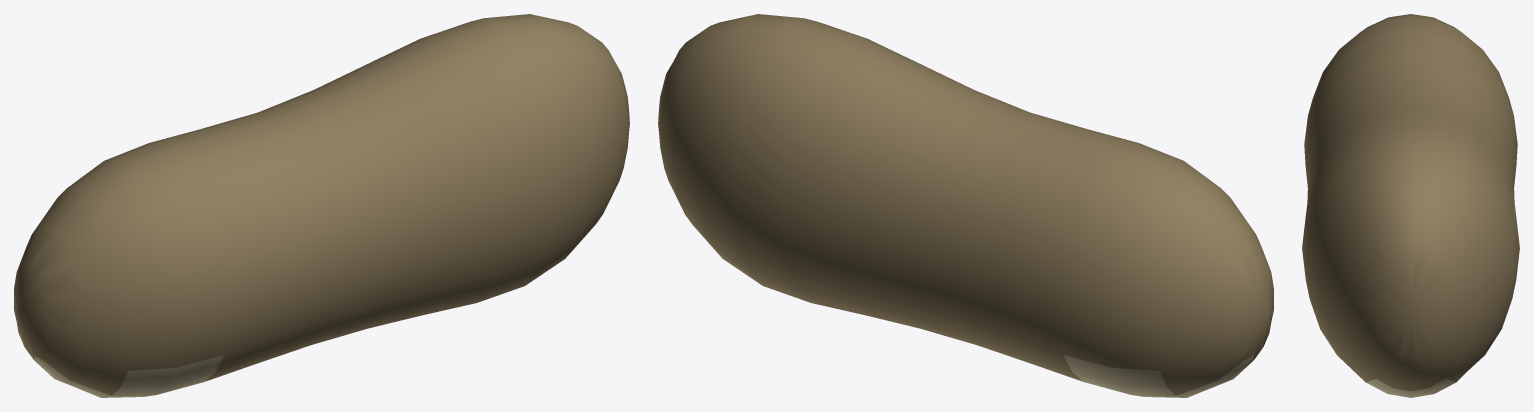
The model's file is deer_body.glb.
The picture shows the model from 3 angles, left to right: view 1: azimuth 30°, elevation 25°; view 2: azimuth 150°, elevation 25°; view 3: azimuth 270°, elevation 25°; orthographic projection. The views are drawn at different scales.
Parts seen in each view (by area): view 1: deer_body; view 2: deer_body; view 3: deer_body.
Part boxes in pixels (<box>): deer_body: <box>14,14,629,397</box>; deer_body: <box>658,14,1273,397</box>; deer_body: <box>1302,14,1519,397</box>.
Size of the model in its own units: 1.28 by 0.5631 by 0.4157.
